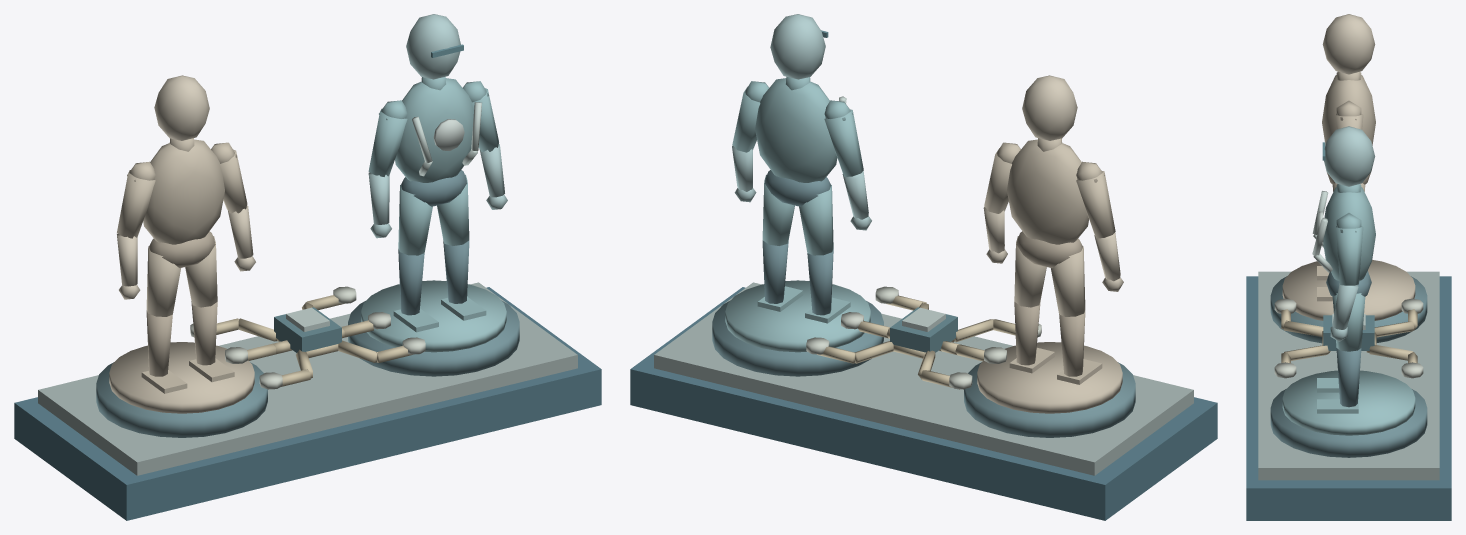
File: ART-69.glb
3 views of the same model, side by side, from view 1: azimuth 30°, elevation 25°; view 2: azimuth 150°, elevation 25°; view 3: azimuth 270°, elevation 25° (orthographic). The views are drawn at different scales.
Parts seen in each view (by area): view 1: world; view 2: world; view 3: world.
Part boxes in pixels (x1,y1,x2,y2): world: (14, 14, 601, 520); world: (630, 14, 1217, 520); world: (1246, 14, 1451, 520).
Bounding box in the file's own units: 2 × 1.51 × 0.8193.
